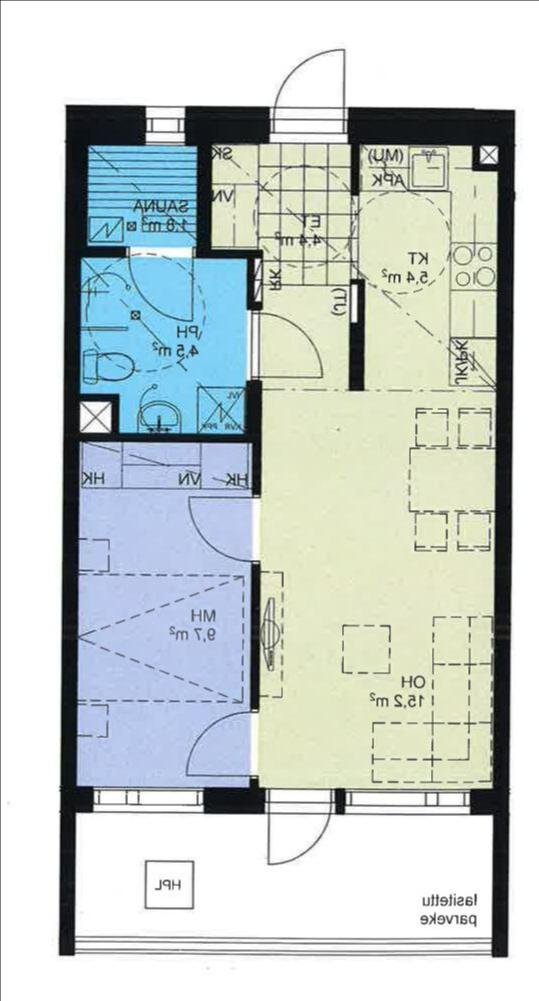door: (264, 42, 353, 154), (258, 782, 335, 868)
window: (82, 778, 208, 820), (338, 782, 477, 818), (136, 94, 192, 152)
